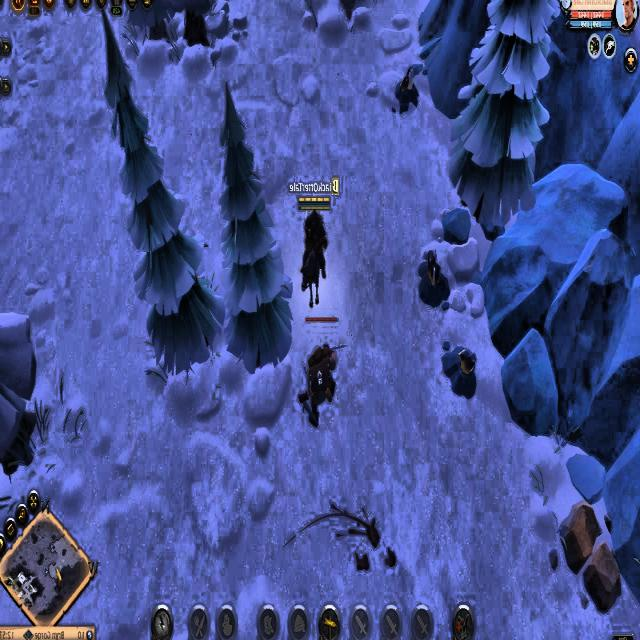copperore: (440, 339, 482, 397), (419, 250, 450, 312), (393, 64, 420, 114)
limestone: (558, 501, 624, 615)
